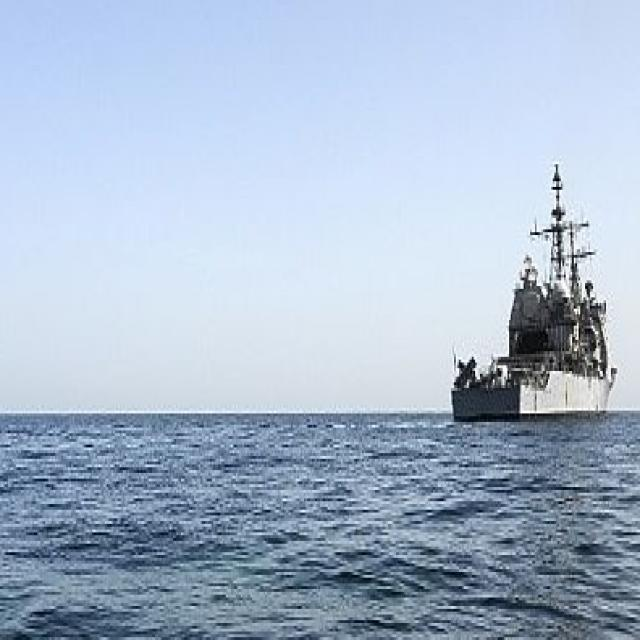navalvessels: (446, 174, 635, 425)
